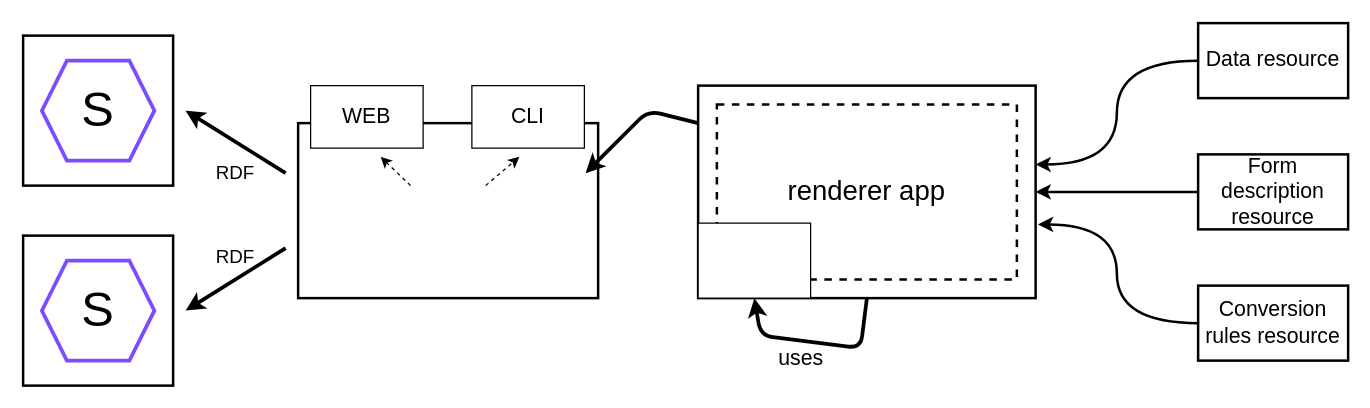
Some shapes in this 1370 by 408 pixel diagram are drawn without their labels. The centre of each missing label's shape, as x and y in pixels:
"declaratively generated app" belongs at (447,210).
"reasoner" belongs at (754,260).
